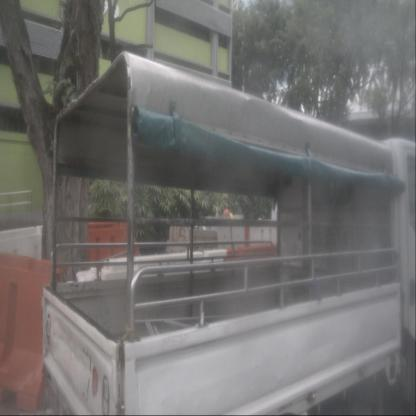barrier: (0, 251, 70, 413), (50, 222, 133, 300), (0, 226, 50, 343), (200, 214, 245, 272), (248, 218, 287, 260)
